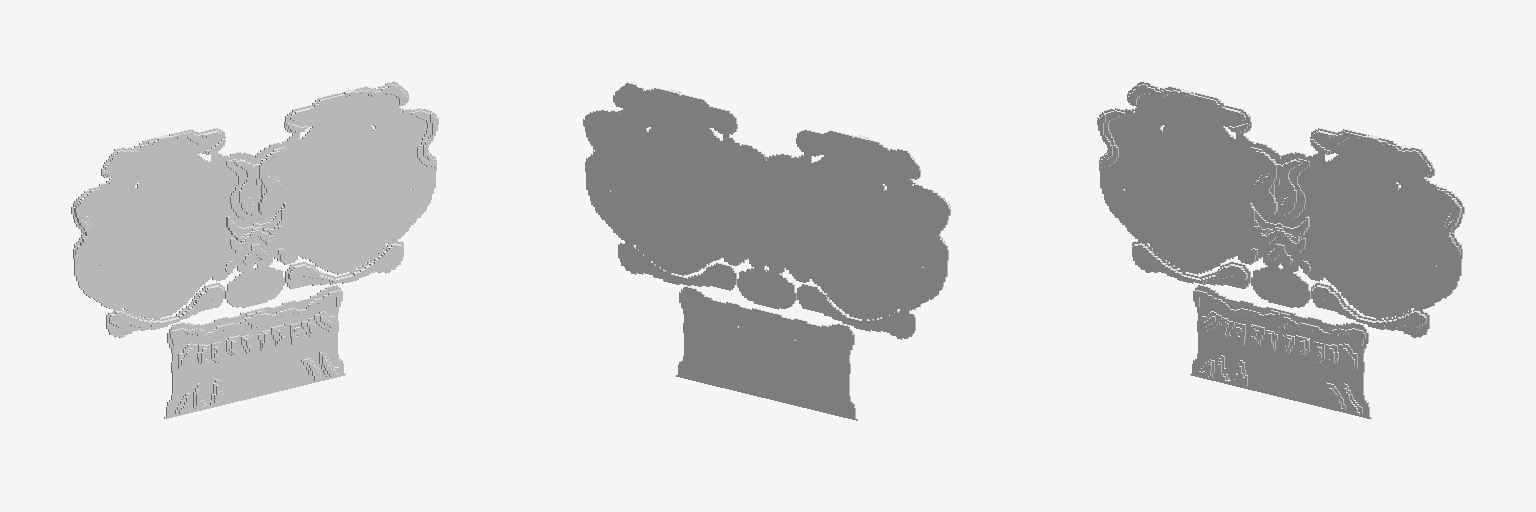
The model's file is bossmaybe-1.obj.
3 renders of one model, left to right at view 1: azimuth 30°, elevation 25°; view 2: azimuth 150°, elevation 25°; view 3: azimuth 330°, elevation 25°, orthographic.
Parts seen in each view (by area): view 1: object 1; view 2: object 1; view 3: object 1.
Part boxes in pixels (left/top/right/bottom): object 1: left=71, top=81, right=438, bottom=418; object 1: left=583, top=82, right=950, bottom=420; object 1: left=1097, top=81, right=1464, bottom=418.
Size of the model in its own units: 22.1 by 16.3 by 0.3.